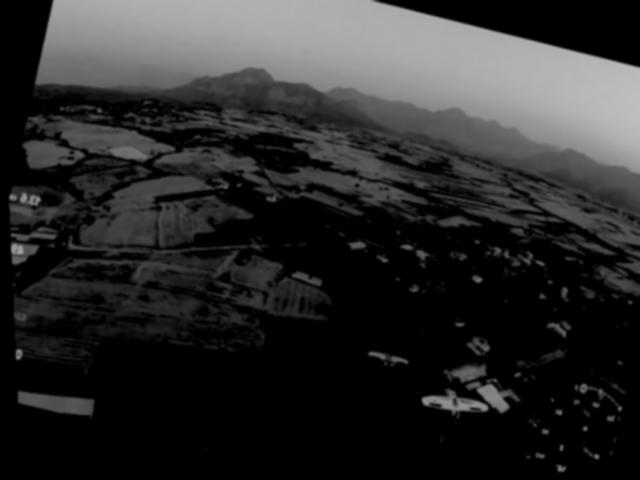hedef: (405, 372, 497, 441)
